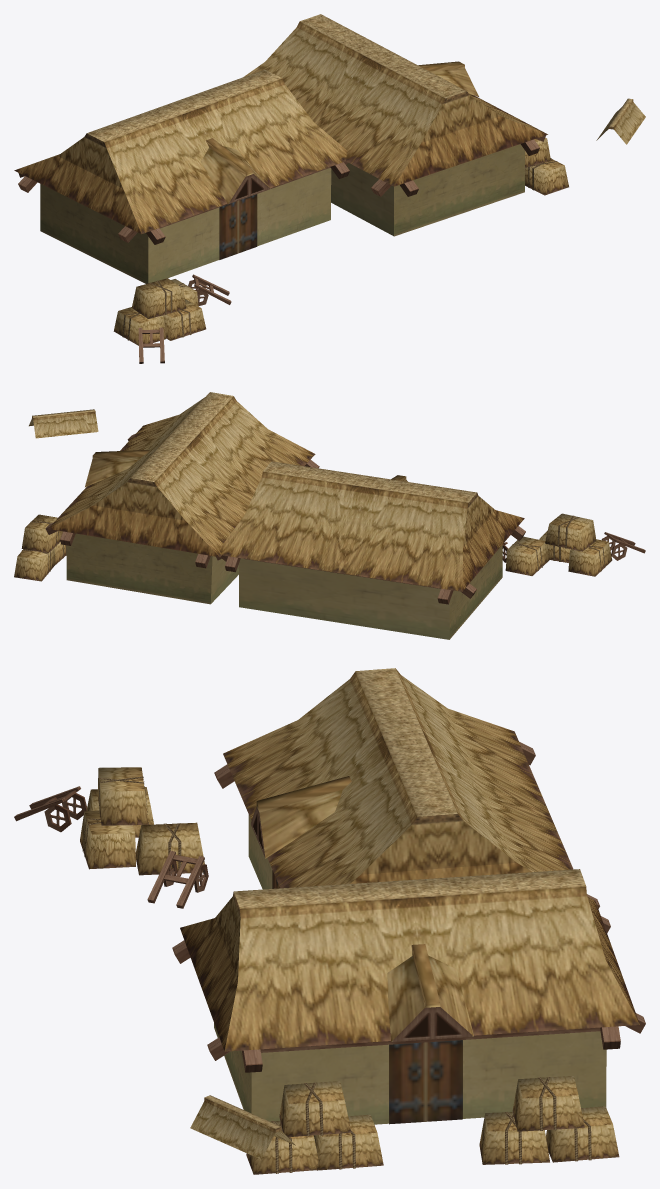
The model's file is Area_06_28.fbx.
3 views of the same model, one above another, from view 1: azimuth 30°, elevation 25°; view 2: azimuth 150°, elevation 25°; view 3: azimuth 270°, elevation 25° (orthographic). The views are drawn at different scales.
Visible parts, largest first — view 1: Area_06_28; view 2: Area_06_28; view 3: Area_06_28.
Part boxes in pixels (x1=…): Area_06_28: x1=14, y1=14, x2=645, y2=363; Area_06_28: x1=14, y1=392, x2=645, y2=639; Area_06_28: x1=14, y1=668, x2=645, y2=1174.
Bounding box in the file's own units: 3709 × 774 × 2321.
